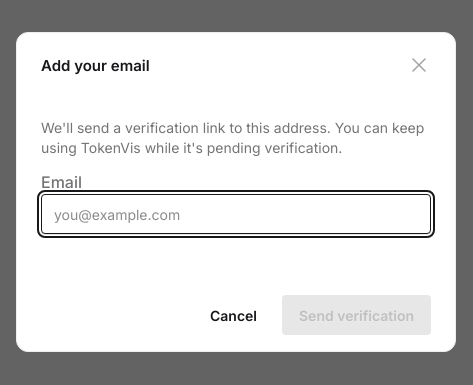
Scenario: AddEmailModal › on 409 email_in_use: shows inline error, modal stays open
Type "taken@example.com" into the field labelled "Email" at (236, 214), box [41,194,431,234]
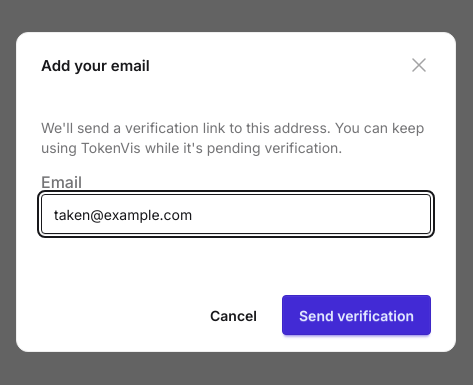
Click the button "Send verification" at (356, 315), box [282,295,431,335]
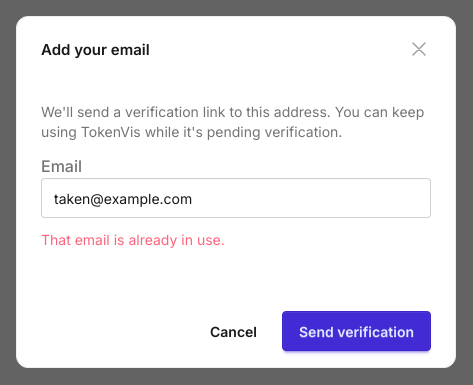
Now the text "That email is already in use." is shown, box [41,231,225,248]
